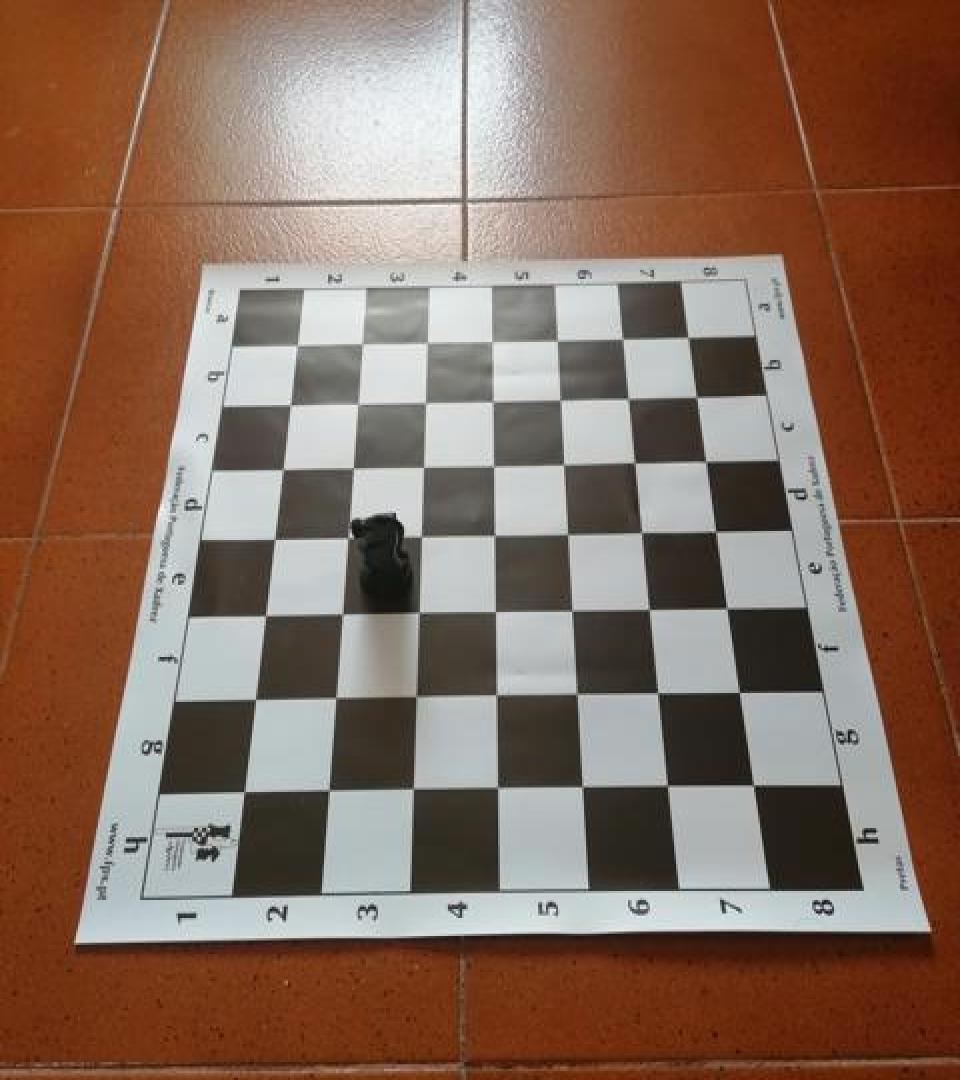xcorner: (607, 320, 637, 354), (541, 323, 571, 357), (476, 324, 506, 358), (411, 325, 441, 359), (347, 326, 377, 360), (282, 327, 312, 361), (681, 379, 711, 413), (613, 380, 643, 414), (545, 382, 575, 416), (477, 384, 507, 418), (410, 384, 440, 418), (342, 386, 372, 420), (275, 387, 305, 421), (690, 444, 720, 478), (619, 446, 649, 480), (549, 446, 579, 480), (408, 450, 438, 484), (337, 451, 367, 485), (267, 452, 297, 486), (701, 515, 731, 549), (627, 516, 657, 550), (553, 518, 583, 552), (479, 518, 509, 552), (405, 520, 435, 554), (332, 521, 362, 555), (259, 523, 289, 557), (635, 593, 665, 627), (557, 595, 587, 629), (480, 596, 510, 630), (403, 597, 433, 631), (326, 598, 356, 632), (249, 600, 279, 634), (725, 677, 755, 711), (644, 678, 674, 712), (562, 680, 592, 714), (400, 682, 430, 716), (320, 683, 350, 717), (239, 684, 269, 718), (739, 770, 769, 804), (653, 772, 683, 806), (568, 773, 598, 807), (483, 774, 513, 808), (398, 775, 428, 809), (313, 776, 343, 810), (228, 777, 258, 811), (672, 320, 702, 353), (478, 448, 508, 481), (712, 592, 742, 625), (481, 681, 511, 714)
